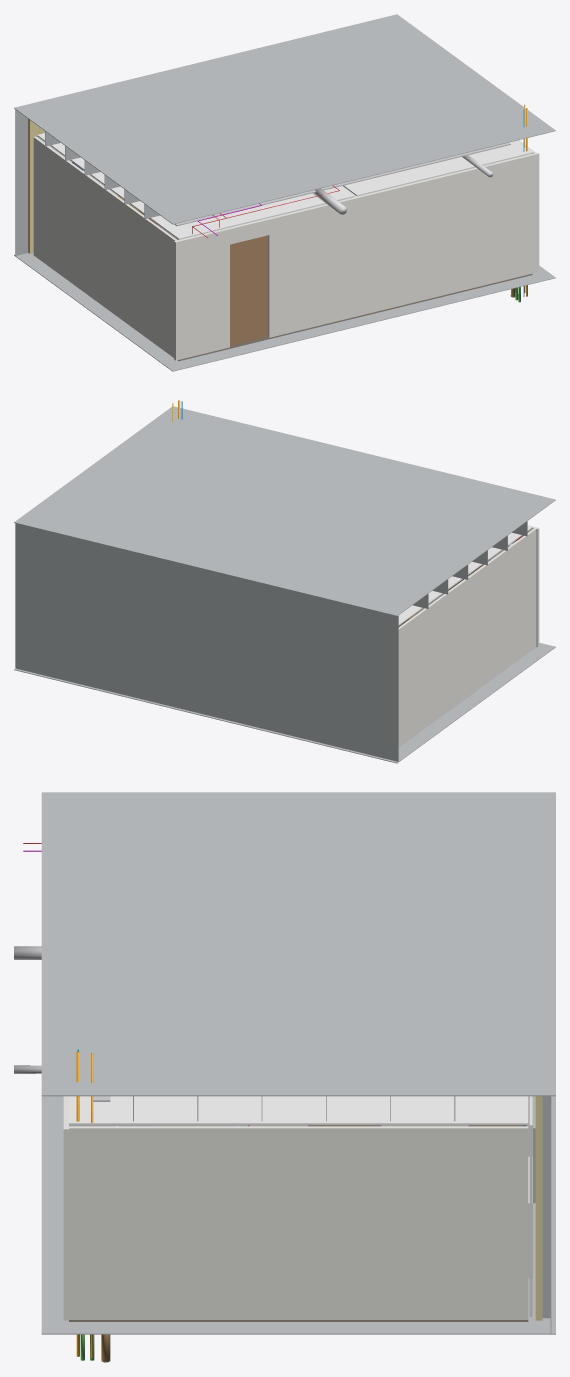
The model's file is CE_Suite.glb.
3 views of the same model, one above another, from view 1: azimuth 30°, elevation 25°; view 2: azimuth 150°, elevation 25°; view 3: azimuth 270°, elevation 25° (orthographic). The views are drawn at different scales.
Parts seen in each view (by area): view 1: STR_Deck_Above_12mm, BHD_Corridor_B15_2, BHD_Aft_B15_0, BHD_Corridor_B15_0, STR_Deck_12mm, DOOR_D1_Entrance_B15_800, CEIL_Panels_Dayroom, CEIL_Panels_Bedroom_Bath, STR_Shell_STBD_8mm, ELE_Cable_Tray_200, INS_Shell_Lining_75mm_MW, STR_Floating_Floor_60mm (+1 smaller); view 2: STR_Deck_Above_12mm, STR_Shell_STBD_8mm, BHD_Aft_B15_0, STR_Deck_12mm, CEIL_Panels_Dayroom, BHD_Corridor_B15_0; view 3: STR_Deck_Above_12mm, BHD_Fwd_B15_0, STR_Deck_12mm, CEIL_Panels_Bedroom_Bath, STR_Frame_Fr130_HP160, INS_Shell_Lining_75mm_MW, BHD_Corridor_B15_2, STR_Shell_STBD_8mm, STR_Floating_Floor_60mm, LIN_ShipSide_6.
Part boxes in pixels (x1,y1,x2,y2): STR_Deck_Above_12mm: (14,14,555,224); BHD_Corridor_B15_2: (268,152,539,337); BHD_Aft_B15_0: (33,136,177,357); BHD_Corridor_B15_0: (174,228,229,360); STR_Deck_12mm: (14,253,555,371); DOOR_D1_Entrance_B15_800: (230,235,267,346); CEIL_Panels_Dayroom: (37,133,354,239); CEIL_Panels_Bedroom_Bath: (343,140,532,196); STR_Shell_STBD_8mm: (15,15,398,255); ELE_Cable_Tray_200: (174,142,510,226); INS_Shell_Lining_75mm_MW: (28,119,44,253); STR_Floating_Floor_60mm: (158,225,532,361); STR_Deck_Above_12mm: (14,406,555,616); STR_Shell_STBD_8mm: (15,523,398,761); BHD_Aft_B15_0: (398,528,536,747); STR_Deck_12mm: (14,642,555,763); CEIL_Panels_Dayroom: (398,525,532,625); BHD_Corridor_B15_0: (488,525,539,647); STR_Deck_Above_12mm: (41,792,555,1096); BHD_Fwd_B15_0: (69,1126,528,1319); STR_Deck_12mm: (41,1096,555,1334); CEIL_Panels_Bedroom_Bath: (69,1096,528,1125); STR_Frame_Fr130_HP160: (542,1096,550,1318); INS_Shell_Lining_75mm_MW: (535,1096,542,1320); BHD_Corridor_B15_2: (63,1096,68,1320); STR_Shell_STBD_8mm: (550,793,551,1333); STR_Floating_Floor_60mm: (69,1320,528,1321); LIN_ShipSide_6: (529,1096,532,1316).
Size of the model in its own units: 7.8 by 3.75 by 5.9.
